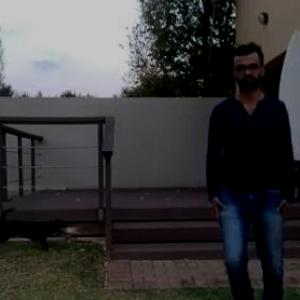follow: (192, 34, 297, 299)
